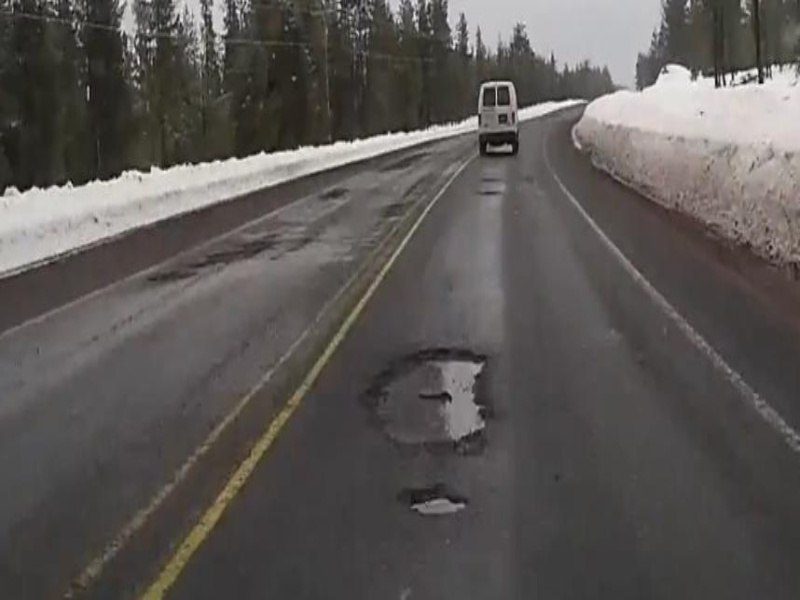pothole: (371, 348, 492, 446), (396, 482, 480, 523)
